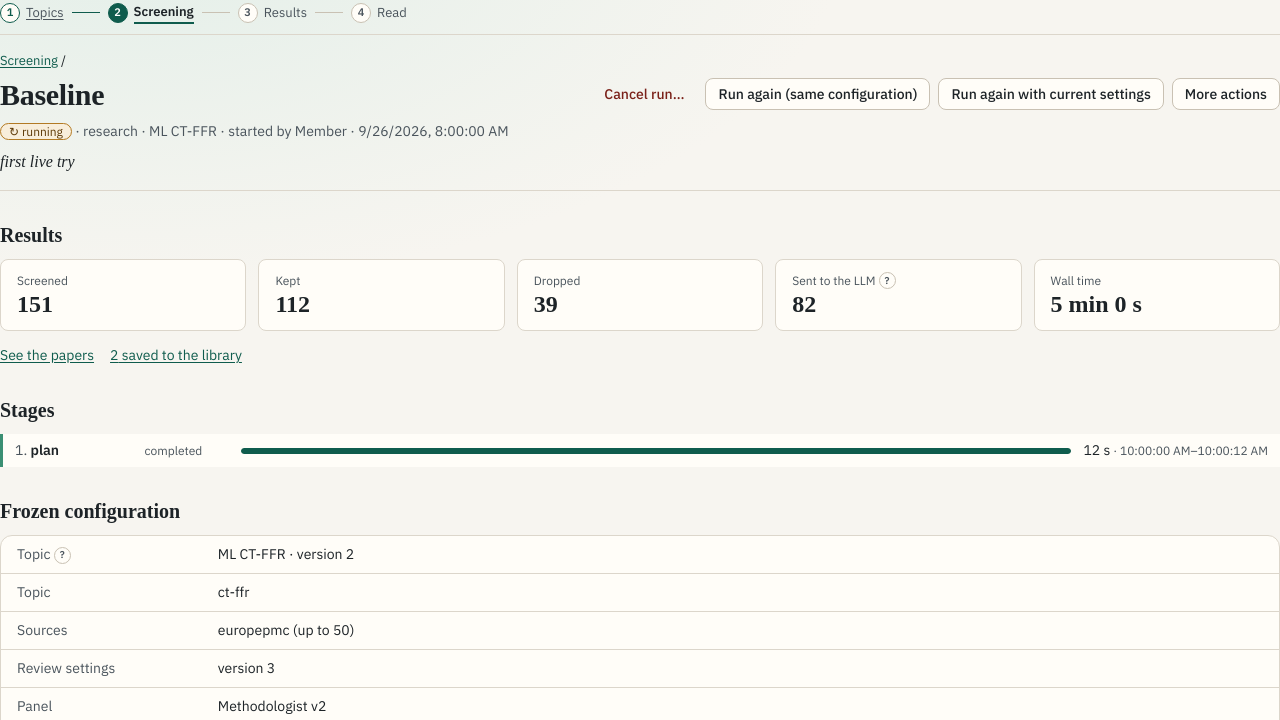
Test case: run detail › cancels a running run after confirming
Click the button "Cancel run…".
click(644, 94)  # box [591, 78, 698, 110]
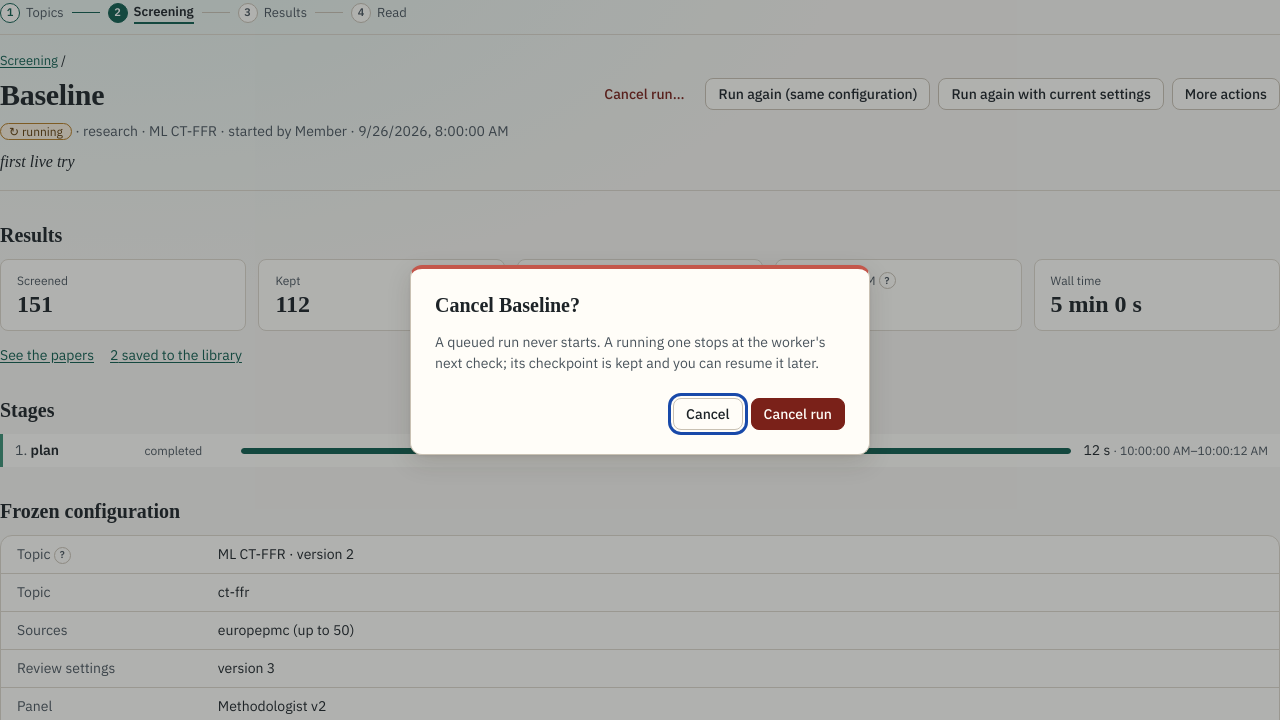
Click the button "Cancel run".
click(798, 414)  # box [751, 398, 845, 430]
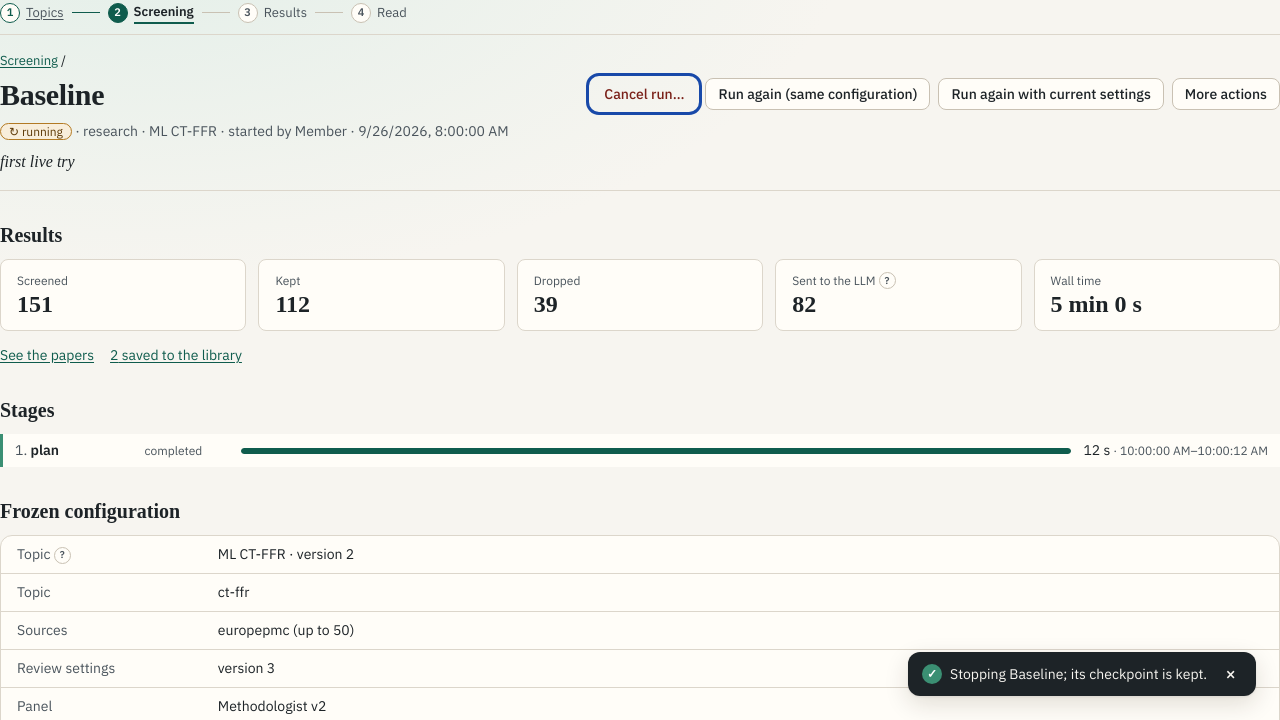
Expected: the text "Stopping Baseline; its checkpoint is kept." is shown, [950, 664, 1207, 684]
